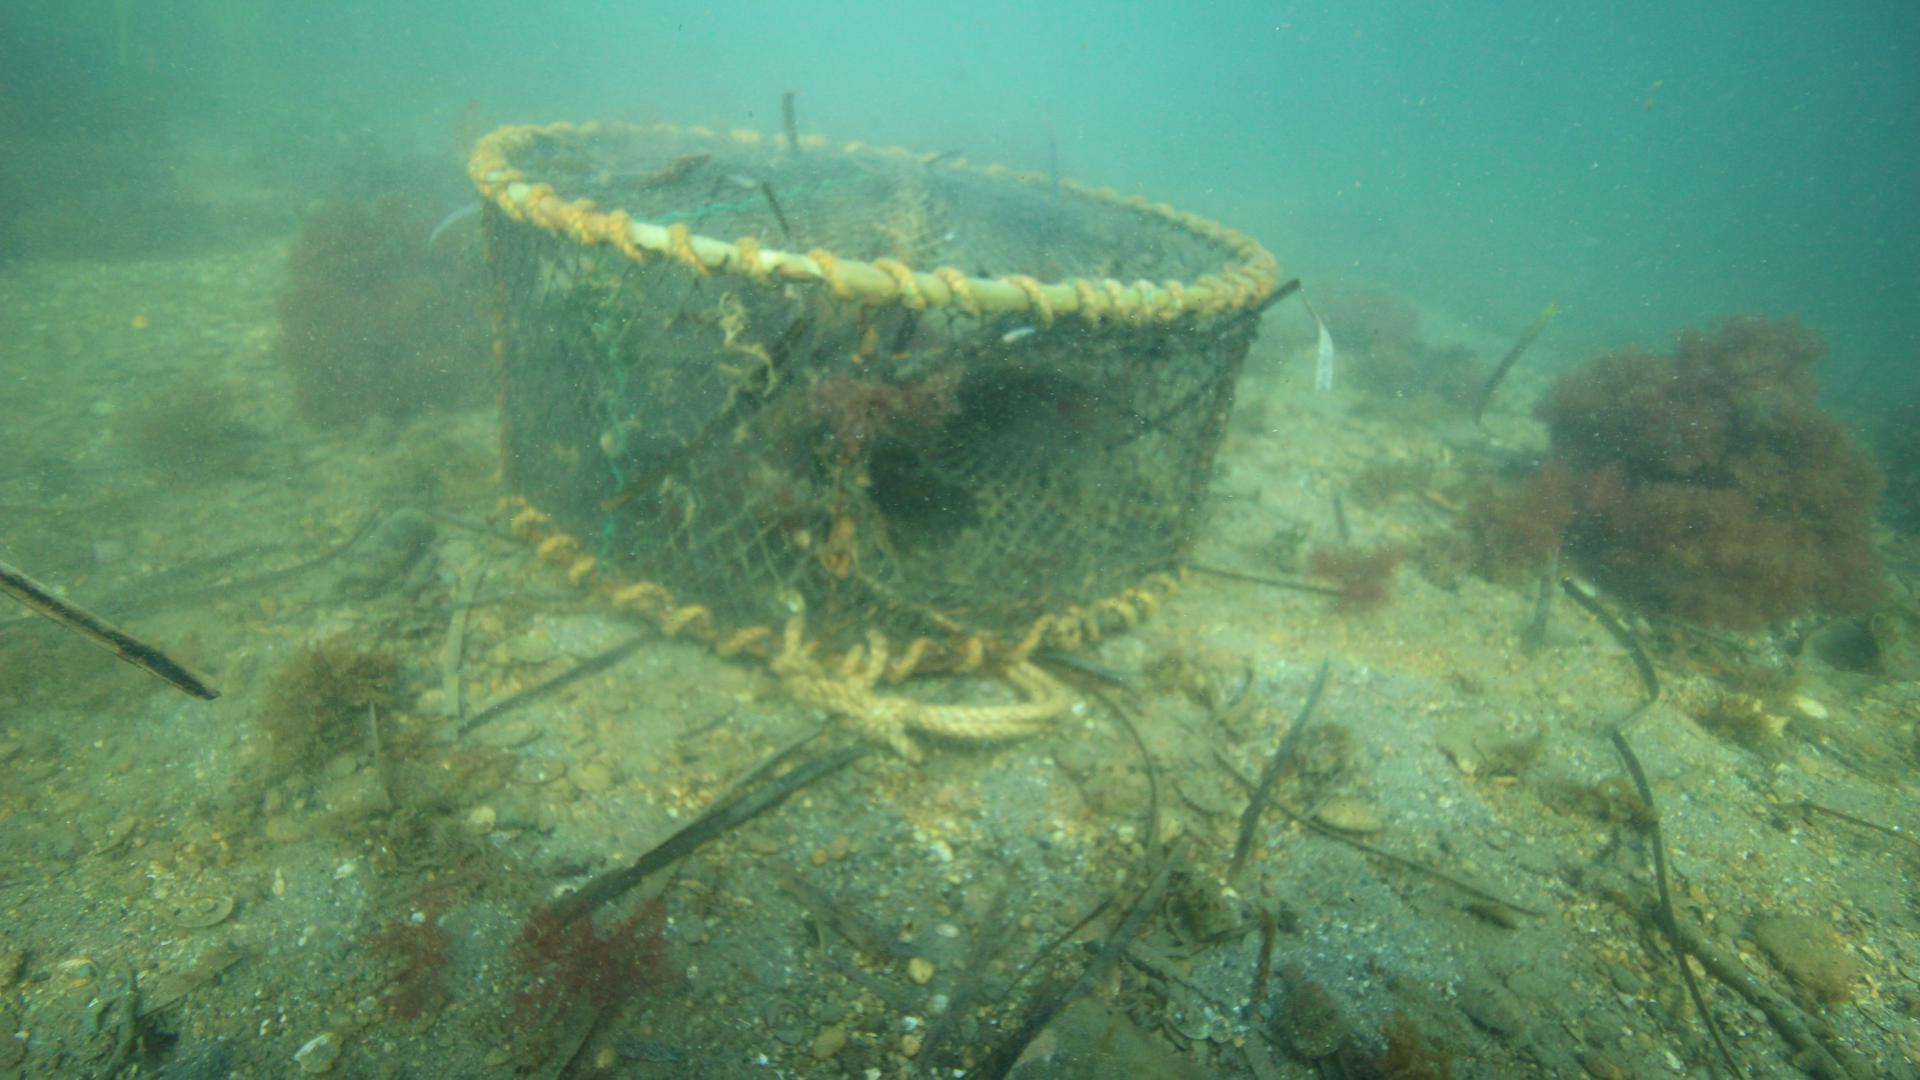bundle of ropes: (789, 646, 1064, 742)
circular fish trap: (463, 115, 1280, 682)
